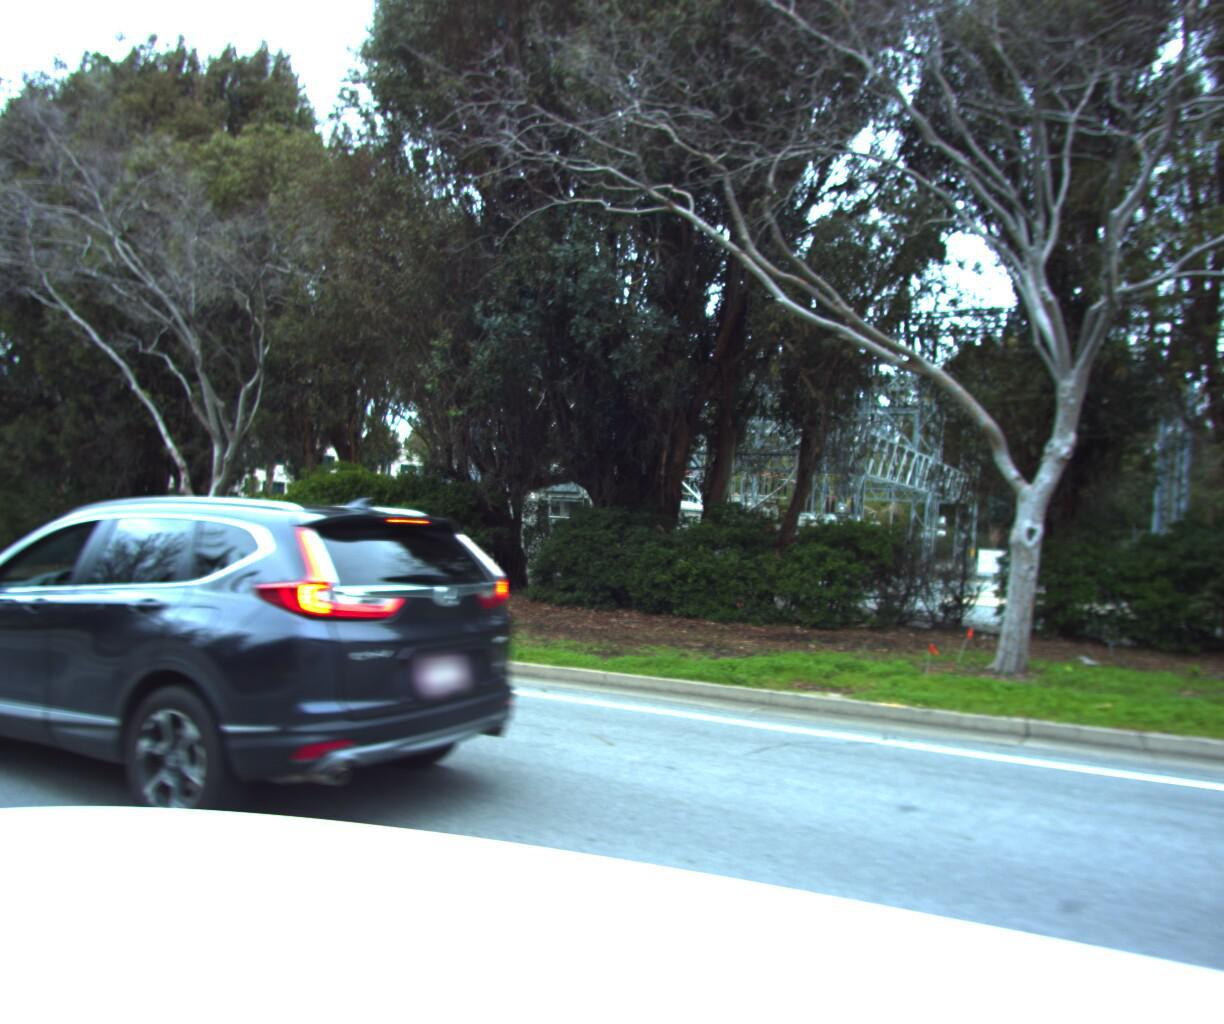car: (0, 471, 565, 920)
